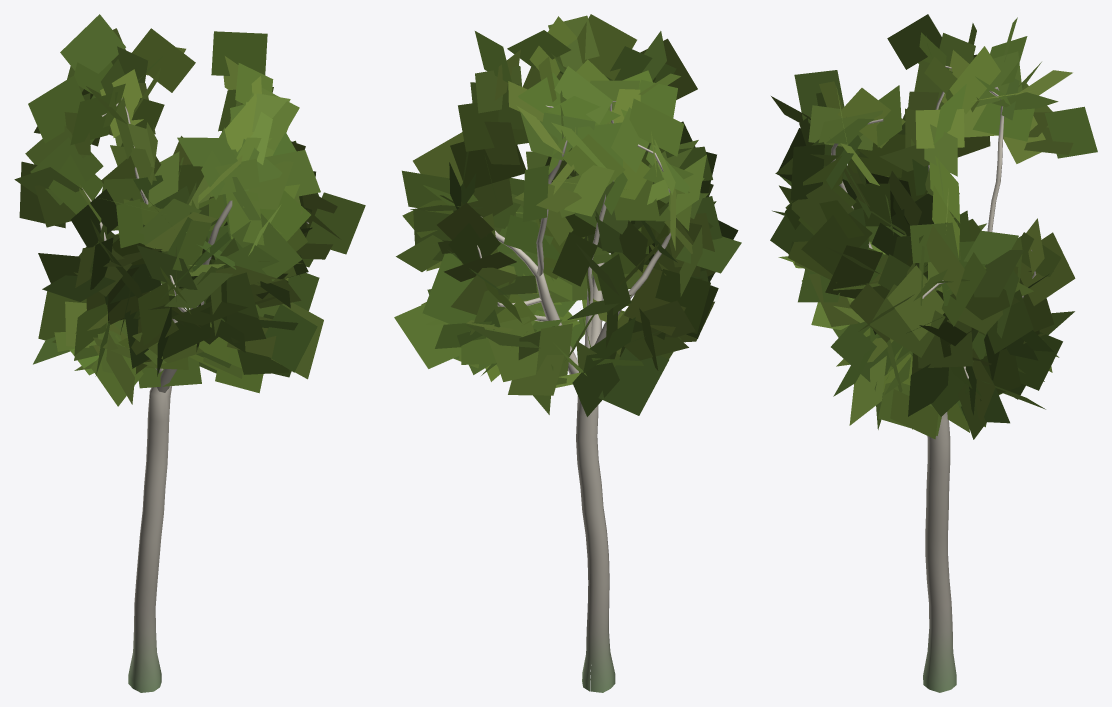
Rendered from broadleaf.birch.summer.glb.
The picture shows the model from 3 angles, left to right: view 1: azimuth 30°, elevation 25°; view 2: azimuth 150°, elevation 25°; view 3: azimuth 270°, elevation 25°; orthographic projection. The views are drawn at different scales.
Visible parts, largest first — view 1: broadleaf_birch_summer; view 2: broadleaf_birch_summer; view 3: broadleaf_birch_summer.
Boxes of the visible parts, <box> form: broadleaf_birch_summer: <box>14,14,365,692</box>; broadleaf_birch_summer: <box>394,14,741,692</box>; broadleaf_birch_summer: <box>770,14,1097,692</box>.
Size of what is drawn, in the model's own units: 5.46 by 10.97 by 4.91.
